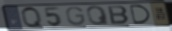5: (42, 6, 64, 27)
B: (106, 5, 131, 25)
D: (128, 4, 152, 25)
G: (65, 6, 87, 26)
Q: (20, 6, 47, 29), (86, 5, 112, 26)
